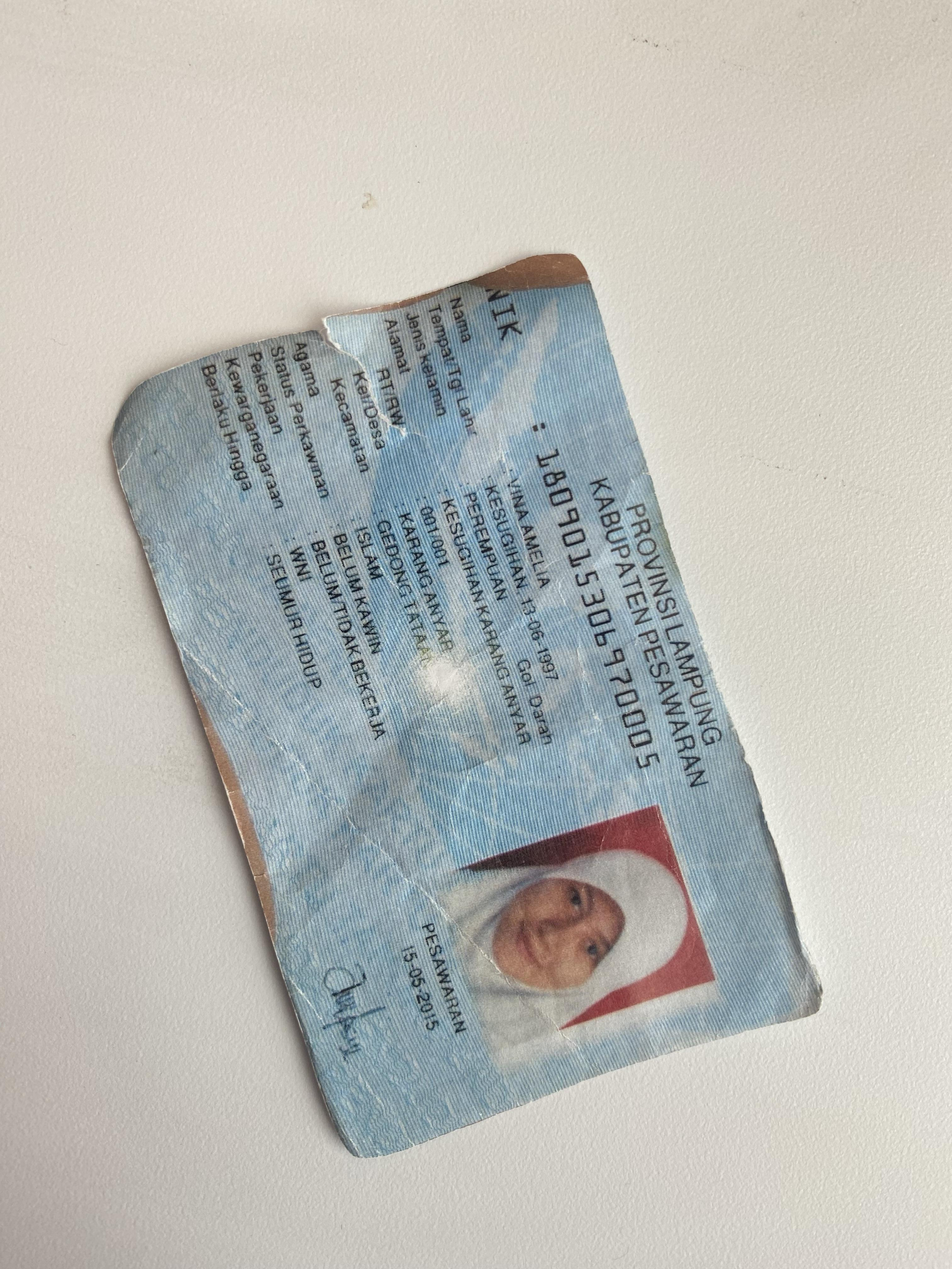ktp: (94, 251, 831, 1164)
